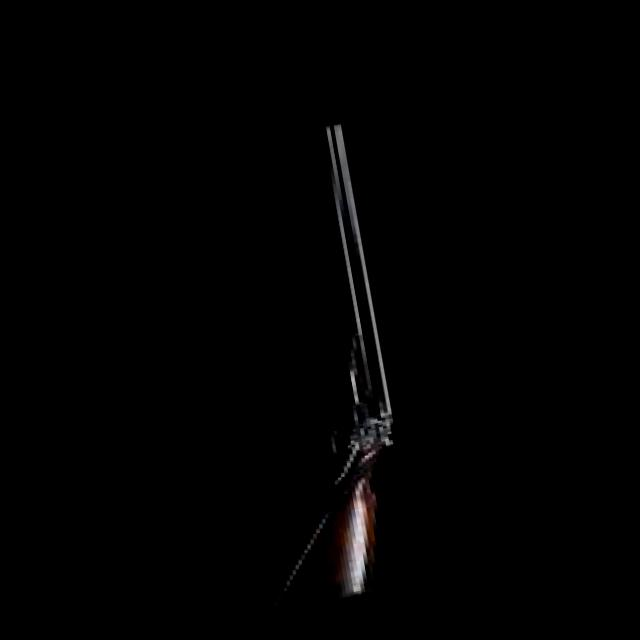long weapon: (257, 112, 435, 618)
